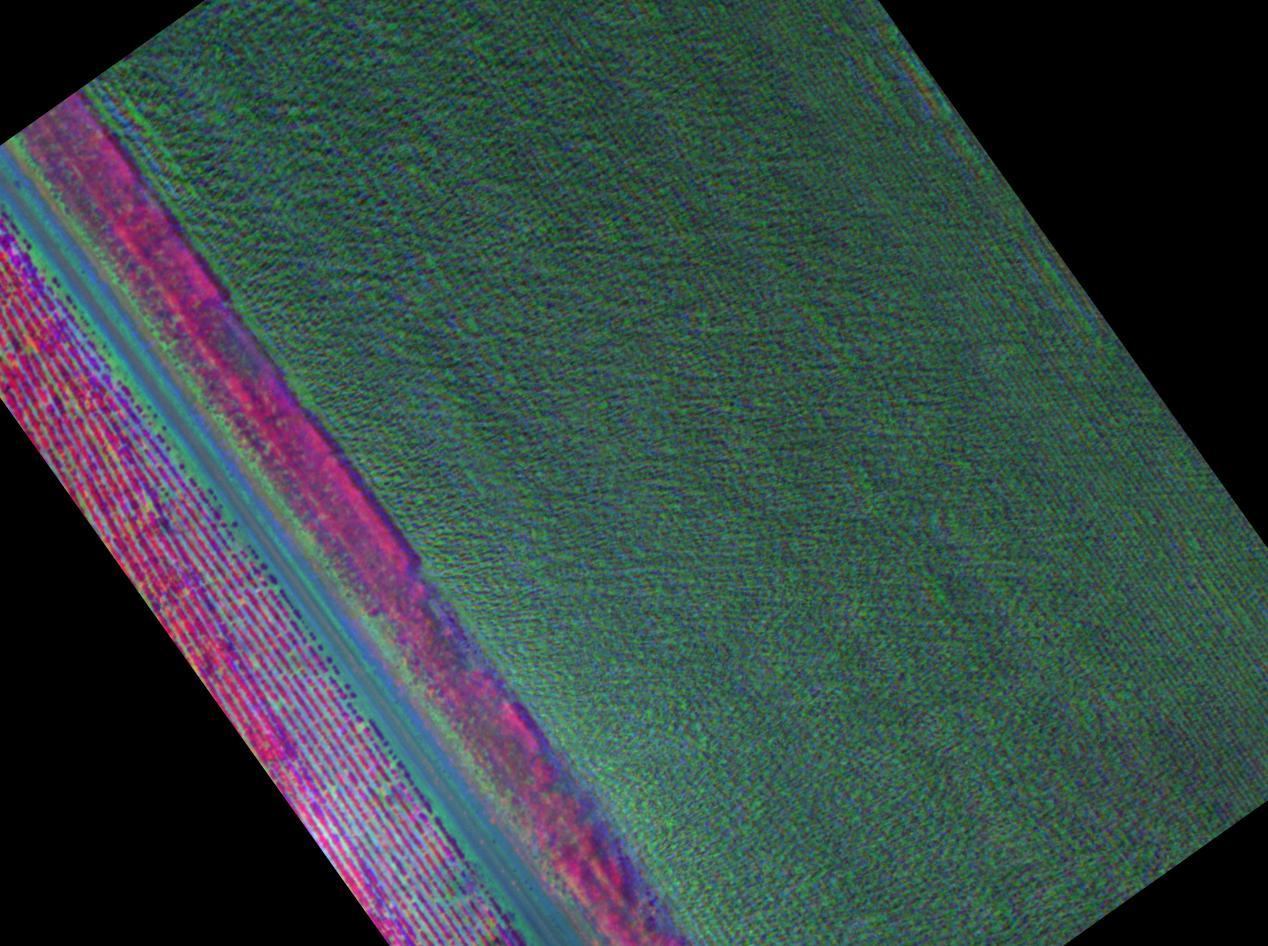dc: (416, 831, 505, 920)
